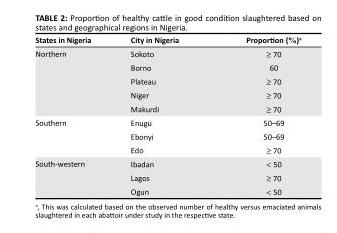table: (34, 34, 300, 196)
table column: (110, 34, 211, 196), (211, 34, 300, 196), (34, 34, 110, 196)
table column header: (34, 34, 300, 46)
table row: (34, 46, 300, 61), (34, 101, 300, 116), (34, 73, 300, 87), (34, 87, 300, 101), (34, 142, 300, 156), (34, 156, 300, 170), (34, 170, 300, 184), (34, 116, 300, 129), (34, 129, 300, 142), (34, 34, 300, 46), (34, 61, 300, 73), (34, 184, 300, 196)
table spanning cell: (34, 46, 110, 116), (34, 116, 110, 156), (34, 156, 110, 196)
